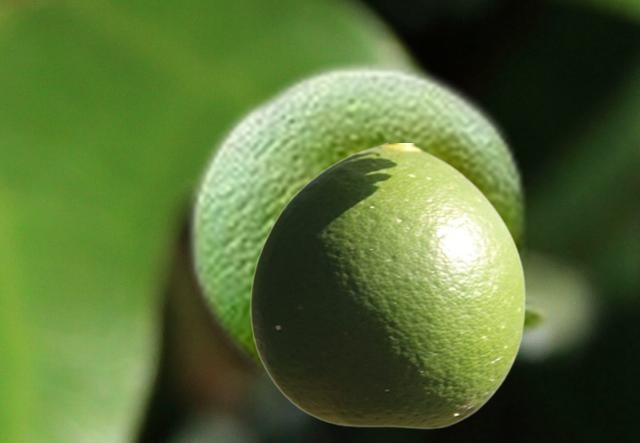dalandan: (183, 56, 553, 388), (249, 143, 525, 428)
